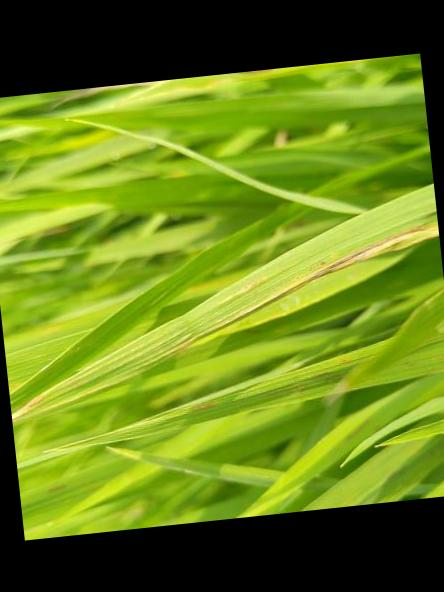Leaf Blight: (11, 181, 439, 422)
